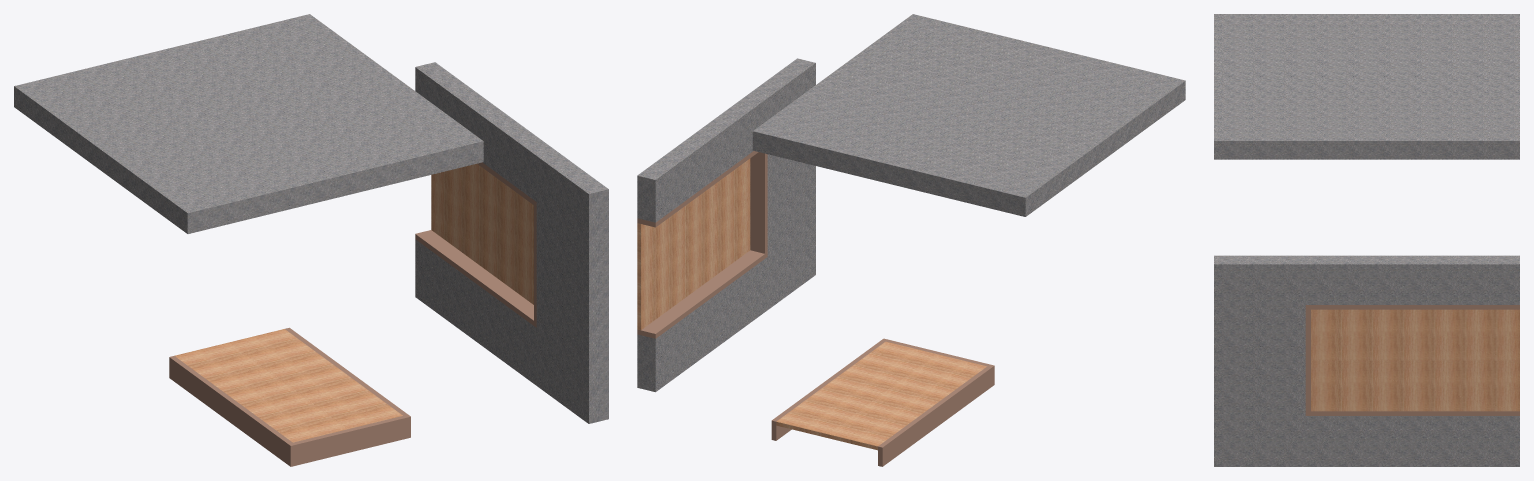
3 renders of one model, left to right at view 1: azimuth 30°, elevation 25°; view 2: azimuth 150°, elevation 25°; view 3: azimuth 270°, elevation 25°, orthographic. The views are drawn at different scales.
Visible parts, largest first — view 1: 0_0_2_1_2_2_2_3; view 2: 0_0_2_1_2_2_2_3; view 3: 0_0_2_1_2_2_2_3.
Boxes of the visible parts, <box> form: 0_0_2_1_2_2_2_3: <box>14,14,608,466</box>; 0_0_2_1_2_2_2_3: <box>637,14,1185,466</box>; 0_0_2_1_2_2_2_3: <box>1214,14,1519,466</box>.
Size of the model in its own units: 4.2 by 3.14 by 3.
6 materials, 4 textured.
